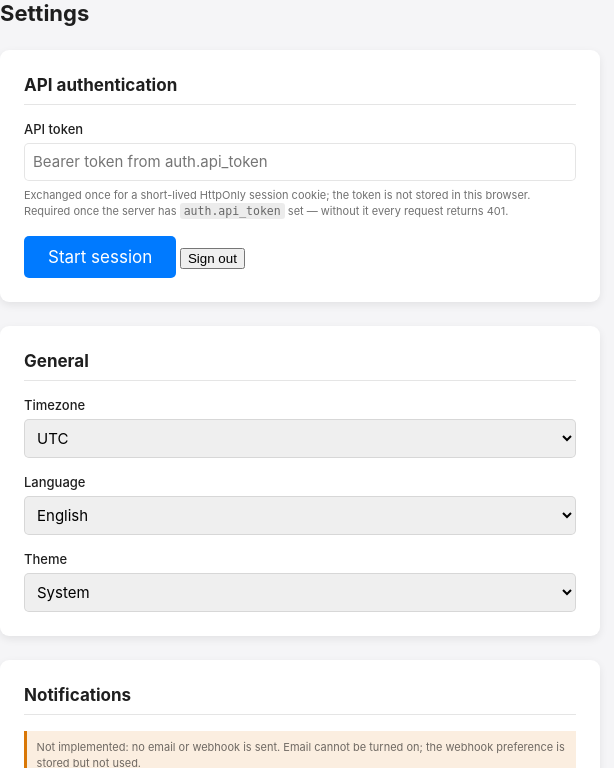
SettingsView session controls › signs out and reports it
Click the button "Sign out" at (212, 259), box [180,248,245,269]
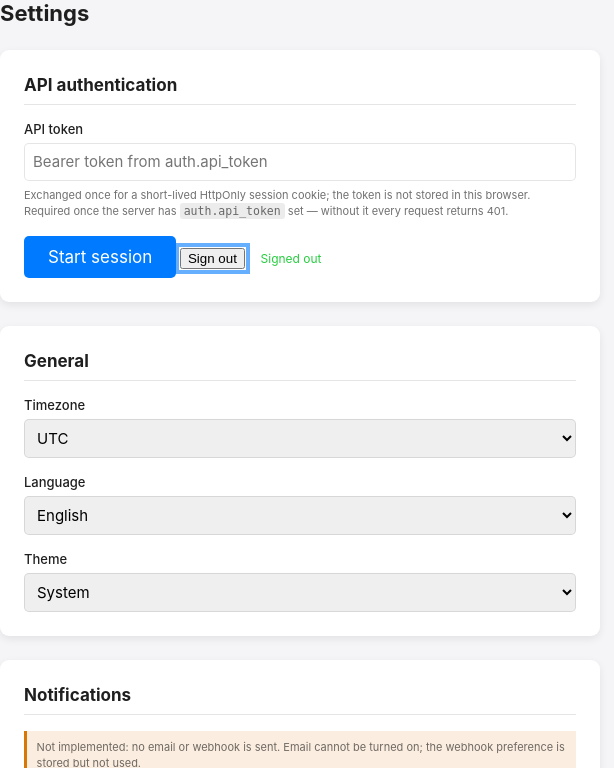
Expected: the text "signed out" below "auth.api_token" is shown, [260,251,322,266]
